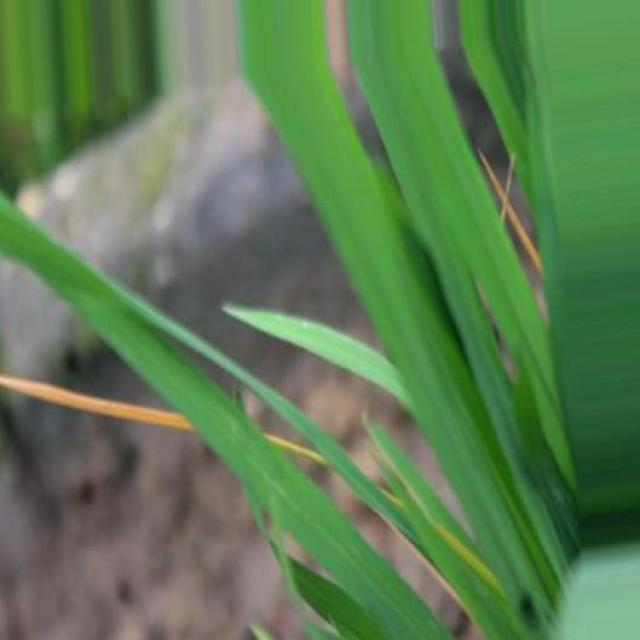Rice Tungro: (0, 376, 192, 430), (506, 200, 541, 274), (479, 148, 502, 201)
